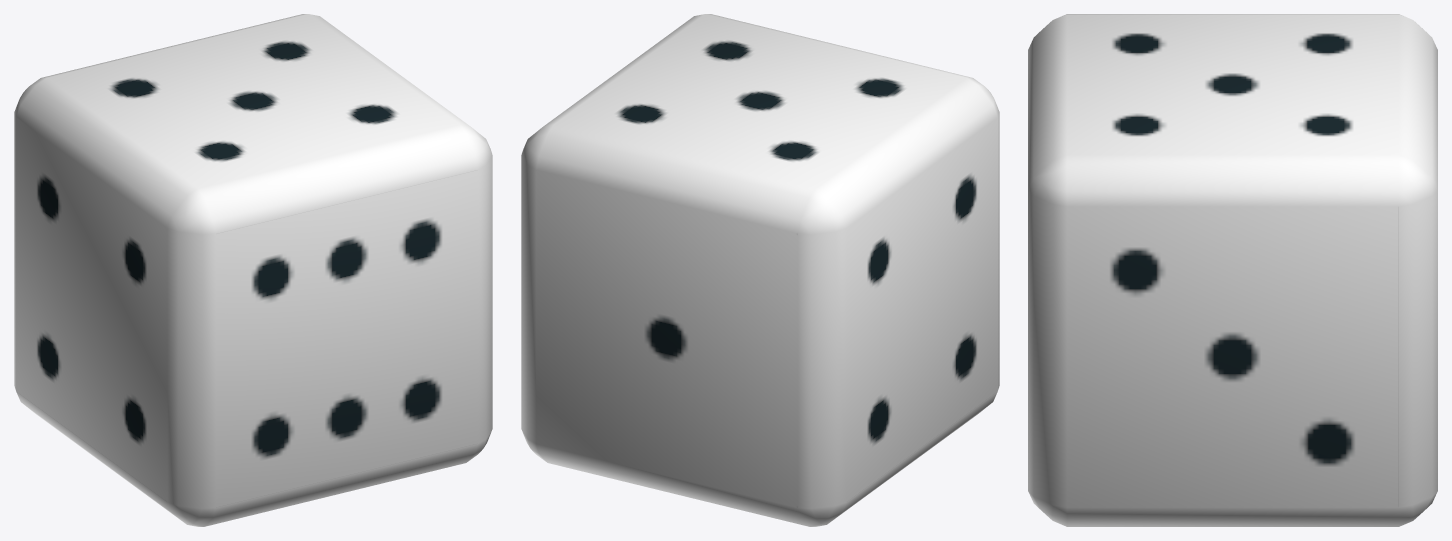
Rendered from dice.glb.
3 renders of one model, left to right at view 1: azimuth 30°, elevation 25°; view 2: azimuth 150°, elevation 25°; view 3: azimuth 270°, elevation 25°, orthographic. The views are drawn at different scales.
Visible parts, largest first — view 1: Cube; view 2: Cube; view 3: Cube.
Part boxes in pixels (left/top/right/bottom): Cube: left=14, top=14, right=492, bottom=526; Cube: left=521, top=14, right=999, bottom=526; Cube: left=1028, top=14, right=1437, bottom=526.
Size of the model in its own units: 0.066 by 0.066 by 0.066.
Materials: 1 (1 with a texture image).
